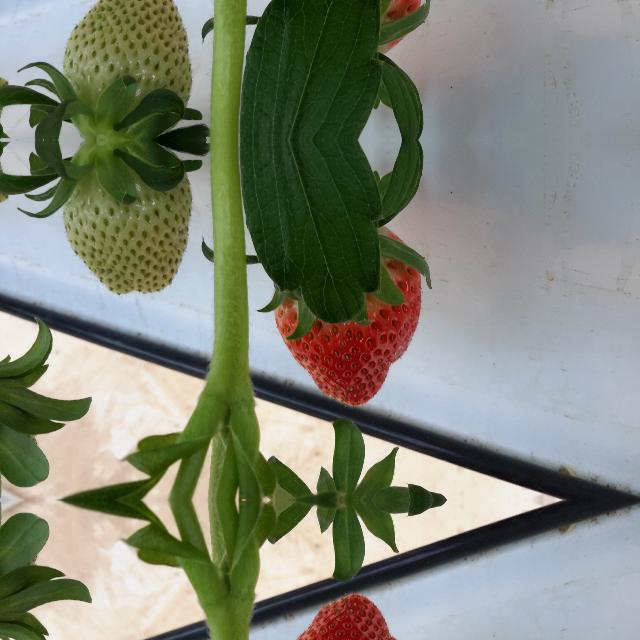Health_100: (273, 226, 421, 406), (273, 0, 421, 54), (273, 594, 421, 640)
Health_25: (61, 146, 192, 296), (61, 0, 192, 134)
